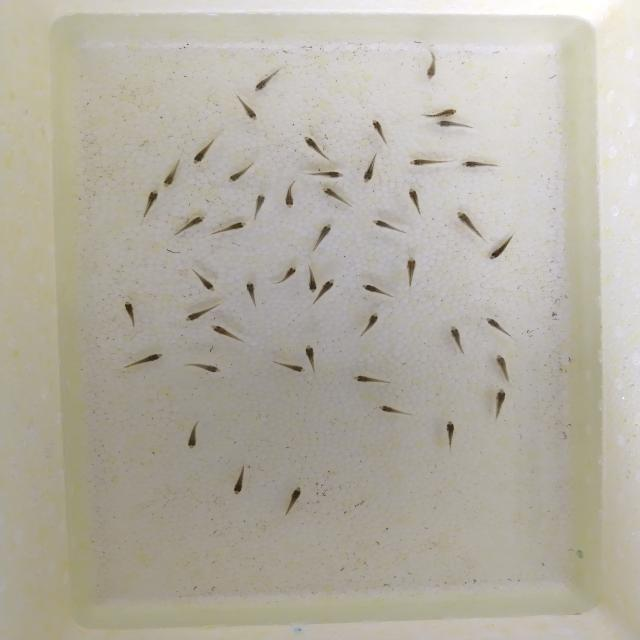fingerling: (293, 130, 337, 164), (116, 347, 170, 374), (449, 205, 487, 243), (165, 212, 212, 241), (223, 460, 258, 498), (203, 320, 254, 346), (276, 482, 312, 518), (359, 114, 396, 148), (227, 95, 268, 125), (246, 66, 289, 94), (486, 230, 518, 266), (417, 46, 447, 84), (481, 312, 519, 342), (306, 220, 337, 256), (222, 157, 261, 185), (487, 350, 518, 385), (178, 301, 225, 324), (314, 274, 344, 310), (353, 280, 402, 302), (178, 355, 229, 376), (189, 134, 219, 169), (442, 321, 470, 358), (401, 181, 428, 219), (344, 368, 395, 388), (356, 155, 386, 188), (369, 215, 412, 238), (180, 417, 208, 452), (136, 186, 162, 223), (354, 309, 384, 341), (319, 184, 355, 210), (116, 298, 145, 330), (190, 266, 221, 295), (488, 384, 509, 426), (280, 177, 304, 213), (209, 218, 252, 238), (373, 401, 418, 420), (440, 416, 460, 458), (240, 276, 264, 310), (406, 153, 453, 170), (401, 252, 422, 290), (264, 357, 306, 376), (270, 262, 300, 288), (458, 155, 502, 172), (249, 190, 271, 224), (301, 167, 347, 183), (160, 159, 183, 190), (430, 120, 476, 134), (421, 106, 464, 119), (304, 338, 318, 376), (304, 264, 319, 294)
